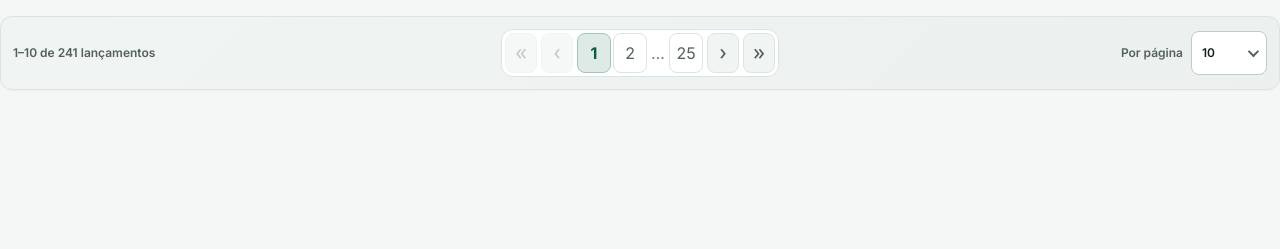
Pagination › resets to the first page when the page size changes
Click the button named "Próxima página" at (723, 53), box [707,33,739,73]
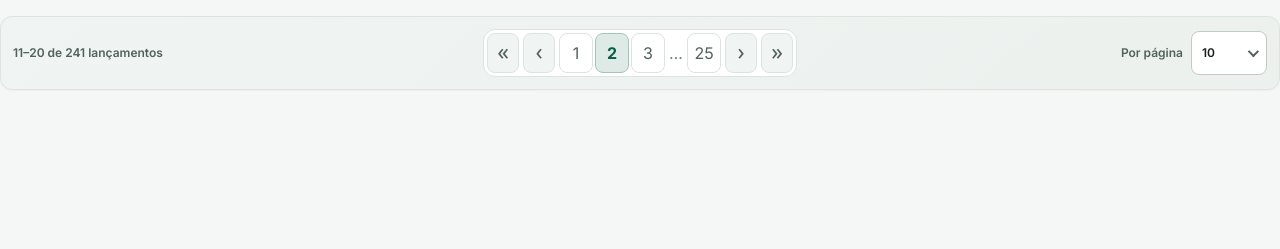
Click the dropdown named "Itens por página" at (1229, 53), box [1191,31,1267,75]
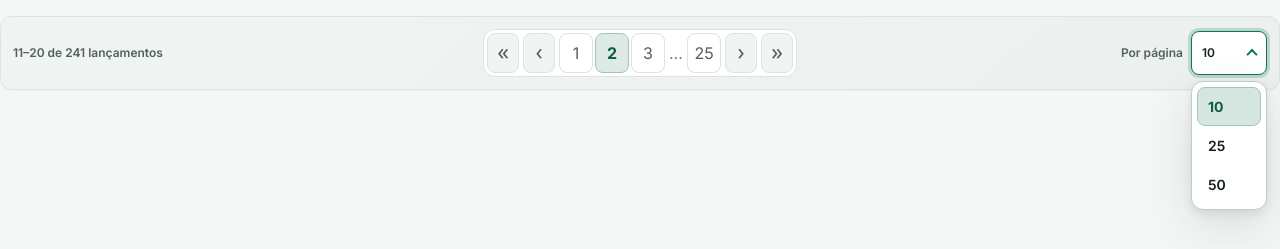
Click the option "25" at (1229, 146), box [1197,126,1261,165]
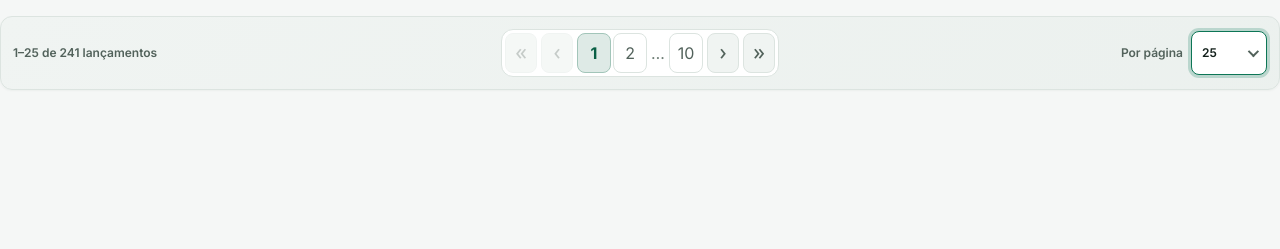
Check: the text "1–25 de 241 lançamentos" is shown, box [13,44,157,62]
